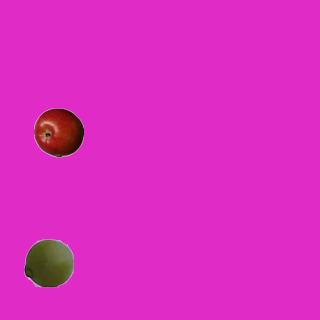Apple Braeburn: (33, 107, 83, 157)
Grape White 4: (23, 237, 73, 287)
